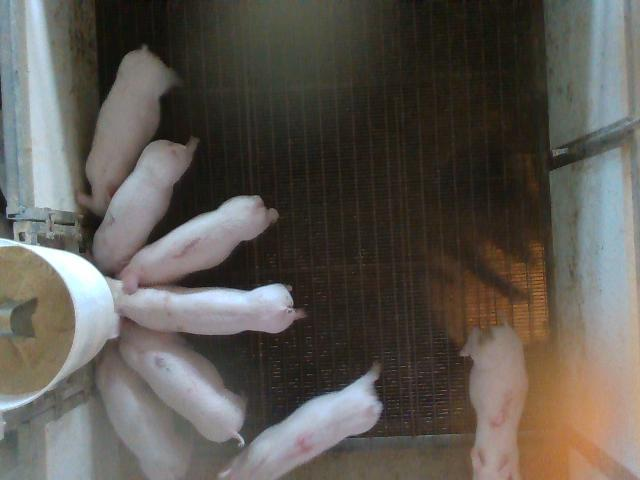pig-1: (119, 195, 279, 292)
pig-3: (460, 321, 528, 478)
pig-4: (219, 362, 382, 479)
